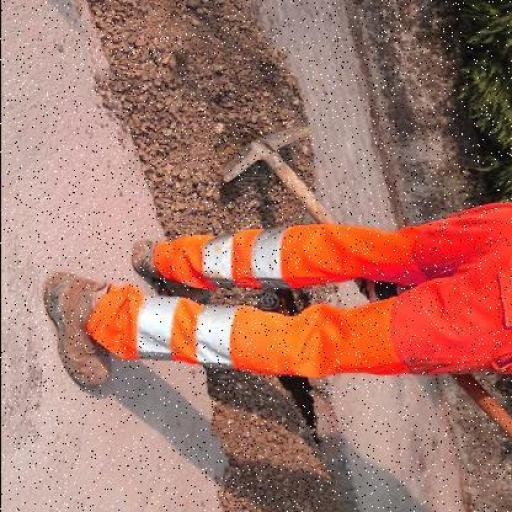safety_shoe: (49, 266, 115, 400)
